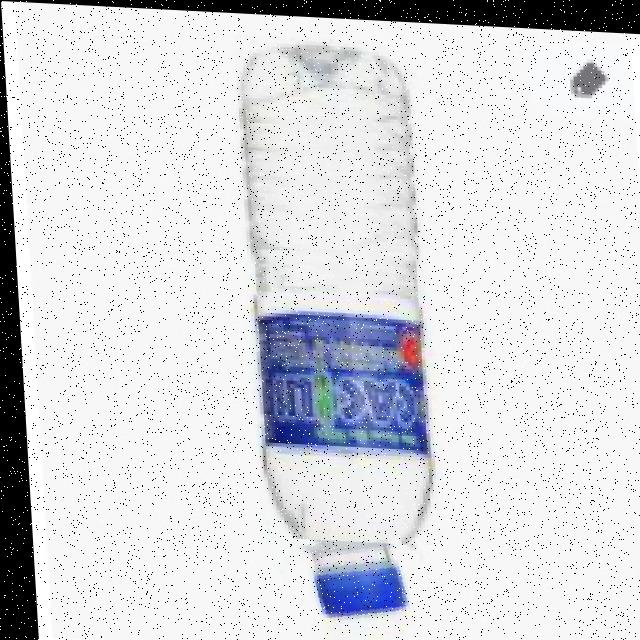litter: (268, 534, 415, 640)
